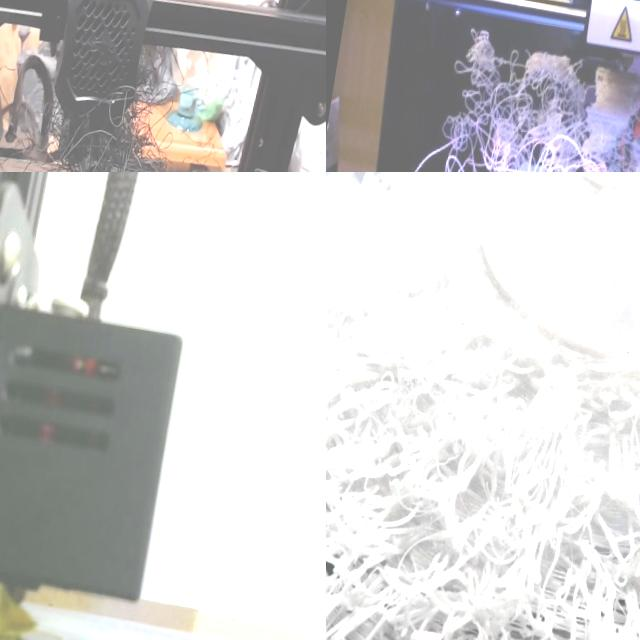spaghetti: (326, 172, 640, 640), (442, 31, 629, 172), (0, 581, 46, 640)
